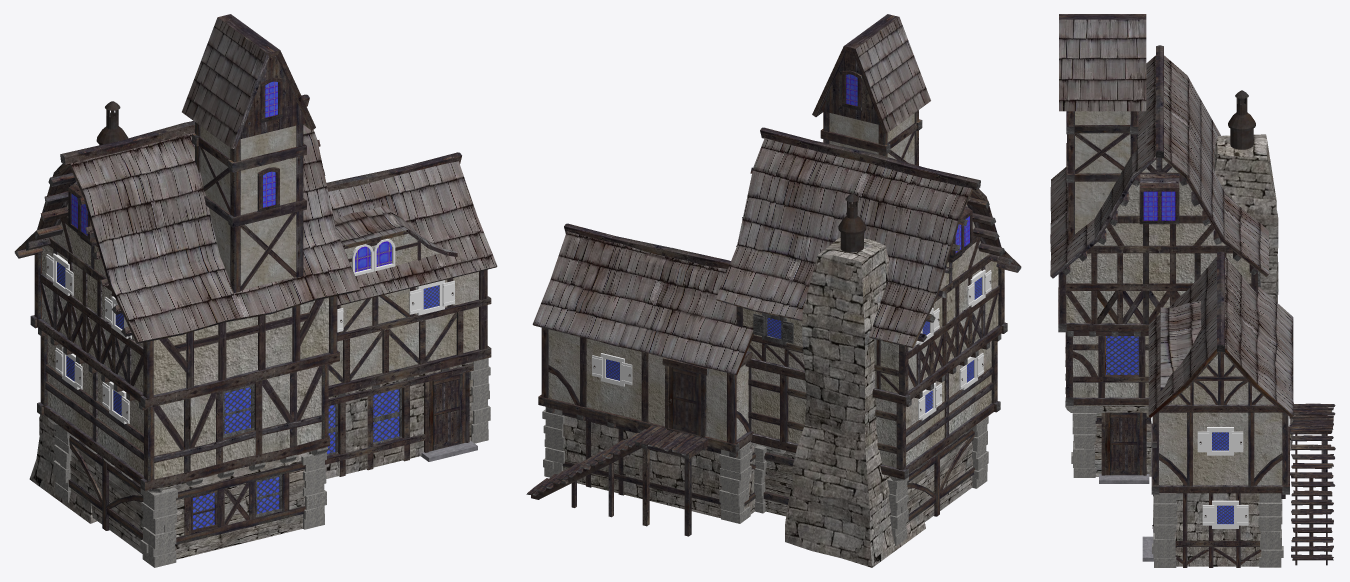
File: house3.glb
3 renders of one model, left to right at view 1: azimuth 30°, elevation 25°; view 2: azimuth 150°, elevation 25°; view 3: azimuth 270°, elevation 25°, orthographic. The views are drawn at different scales.
Parts seen in each view (by area): view 1: house3; view 2: house3; view 3: house3.
Part boxes in pixels (x1,y1,x2,y2): house3: [14, 14, 497, 567]; house3: [526, 14, 1021, 567]; house3: [1050, 14, 1335, 567].
Bounding box in the file's own units: 13.17 × 14.65 × 8.53.
12 materials, 11 textured.
